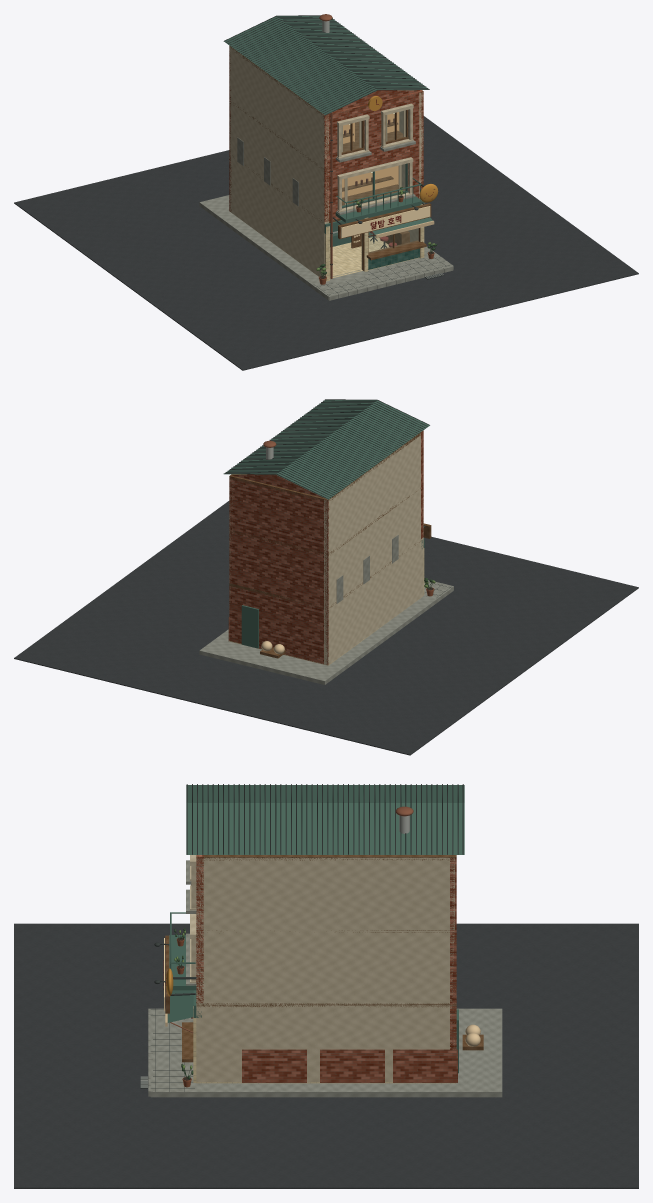
File: moon-hotteok.glb
The picture shows the model from 3 angles, top to bottom: view 1: azimuth 30°, elevation 25°; view 2: azimuth 150°, elevation 25°; view 3: azimuth 270°, elevation 25°; orthographic projection. The views are drawn at different scales.
Parts seen in each view (by area): view 1: Street asphalt, Architecture plaster, Architecture jade-paint, Architecture iron, Architecture brick, Street stone, Glass glass, Windows plaster, Shop ivory, Windows jade-paint, Interiors room-wall, Interiors wood (+9 smaller); view 2: Street asphalt, Architecture brick, Architecture plaster, Architecture jade-paint, Architecture iron, Street stone, Architecture wood, Architecture stone; view 3: Street asphalt, Architecture plaster, Architecture jade-paint, Street stone, Architecture brick, Architecture iron, Architecture wood, Windows jade-paint, Windows plaster, Shop jade-paint, Shop ivory.
Part boxes in pixels (<box>): Street asphalt: <box>14,116,638,370</box>; Architecture plaster: <box>229,46,423,276</box>; Architecture jade-paint: <box>224,16,428,114</box>; Architecture iron: <box>224,15,429,115</box>; Architecture brick: <box>229,46,423,221</box>; Street stone: <box>199,195,453,300</box>; Glass glass: <box>333,110,418,253</box>; Windows plaster: <box>337,103,413,212</box>; Shop ivory: <box>230,203,424,281</box>; Windows jade-paint: <box>335,163,422,222</box>; Interiors room-wall: <box>342,112,399,197</box>; Interiors wood: <box>342,122,409,245</box>; Street asphalt: <box>14,501,638,755</box>; Architecture brick: <box>228,430,423,664</box>; Architecture plaster: <box>229,433,423,665</box>; Architecture jade-paint: <box>224,400,429,648</box>; Architecture iron: <box>223,399,429,499</box>; Street stone: <box>199,580,453,684</box>; Architecture wood: <box>229,432,420,608</box>; Architecture stone: <box>336,535,398,603</box>; Street asphalt: <box>14,923,638,1188</box>; Architecture plaster: <box>196,857,456,1083</box>; Architecture jade-paint: <box>186,785,464,1073</box>; Street stone: <box>148,1008,502,1097</box>; Architecture brick: <box>196,855,457,1082</box>; Architecture iron: <box>186,784,463,854</box>; Architecture wood: <box>196,855,456,1007</box>; Windows jade-paint: <box>169,912,196,990</box>; Windows plaster: <box>190,855,196,983</box>; Shop jade-paint: <box>167,990,201,1022</box>; Shop ivory: <box>193,1006,456,1083</box>.
Size of the model in its own units: 24 by 11.32 by 24.
25 materials, 7 textured.
